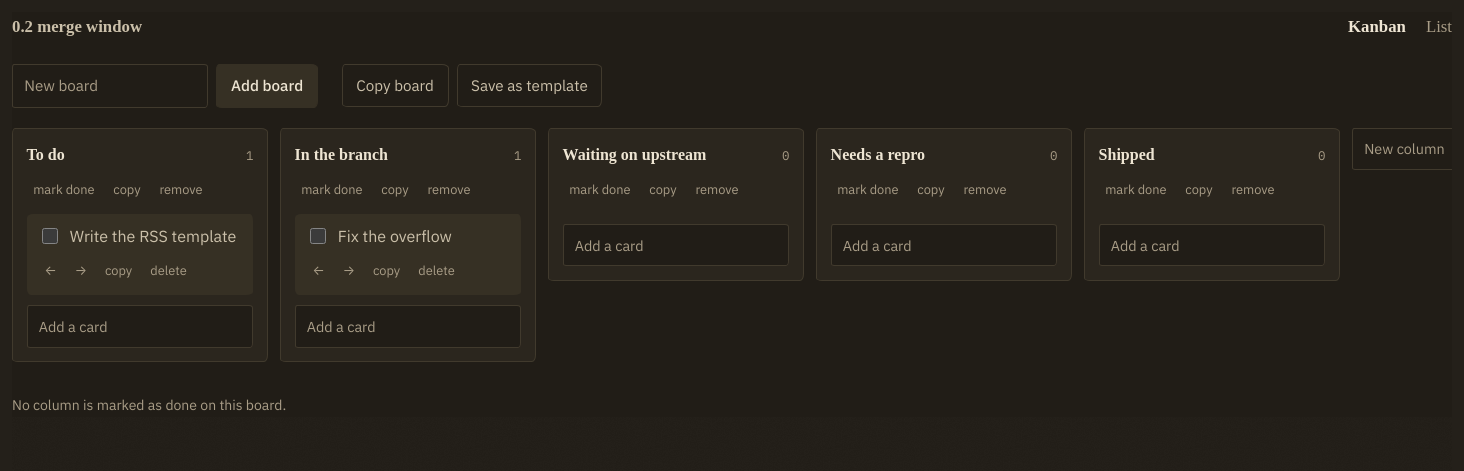
Scenario: BoardsPanel › surfaces a refused move instead of pretending it worked
The width and height of the screenshot is (1464, 471).
Click the button "→" below "Write the RSS template": (81, 271) [68,257,94,286]
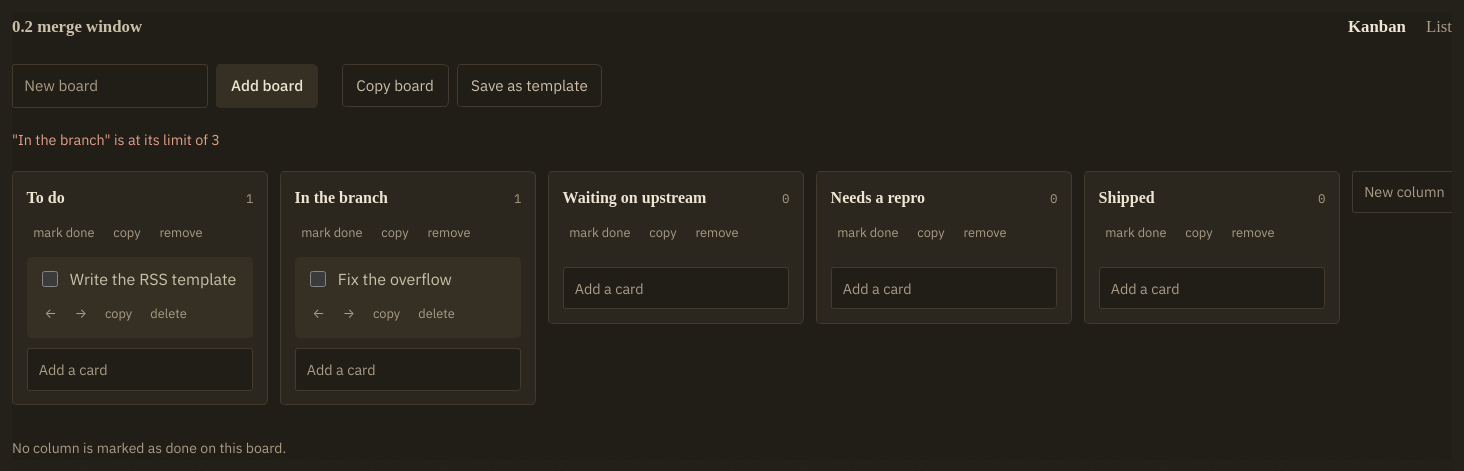
Expected: the message "\"In the branch\" is at its limit of 3" reads "\"In the branch\" is at its limit of 3", [12,130,220,148]
